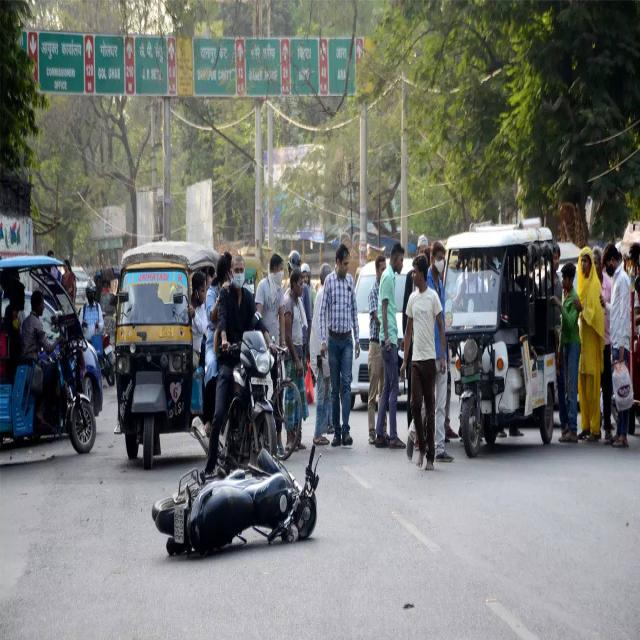accident: (151, 448, 319, 556)
autorickshaw: (445, 227, 558, 457), (115, 240, 216, 469), (0, 256, 102, 453)
motorcycle: (205, 253, 278, 476)
